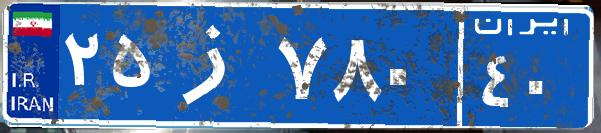0: (385, 28, 445, 110), (525, 38, 570, 115)
2: (57, 26, 110, 107)
4: (475, 38, 525, 113)
5: (110, 28, 158, 105)
7: (273, 28, 330, 110)
8: (330, 28, 385, 110)
ز: (158, 15, 273, 115)
